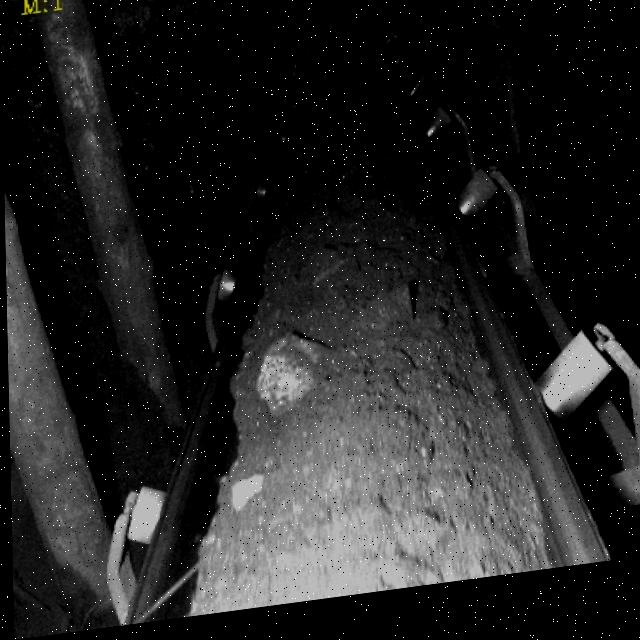large_sized_coal: (252, 336, 330, 424)
